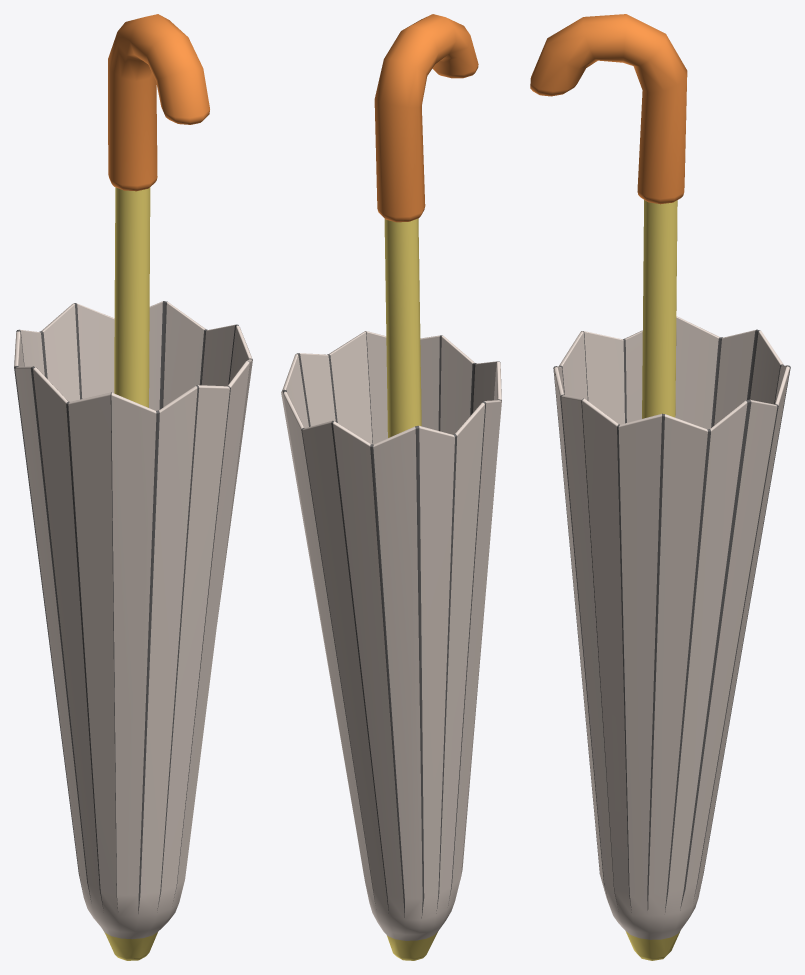
File: Closed_Umbrella.glb
3 views of the same model, side by side, from view 1: azimuth 30°, elevation 25°; view 2: azimuth 150°, elevation 25°; view 3: azimuth 270°, elevation 25° (orthographic). The views are drawn at different scales.
Visible parts, largest first — view 1: Closed_Umbrella; view 2: Closed_Umbrella; view 3: Closed_Umbrella.
Boxes of the visible parts, x1,y1,x2,y2 form: Closed_Umbrella: (14, 14, 252, 960); Closed_Umbrella: (281, 14, 501, 960); Closed_Umbrella: (530, 14, 790, 960).
Bounding box in the file's own units: 0.2004 × 0.8983 × 0.2252.
Materials: 1 (1 with a texture image).
